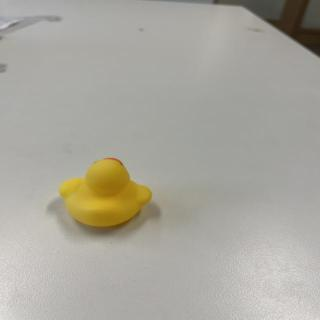duck_regular: (58, 157, 154, 229)
